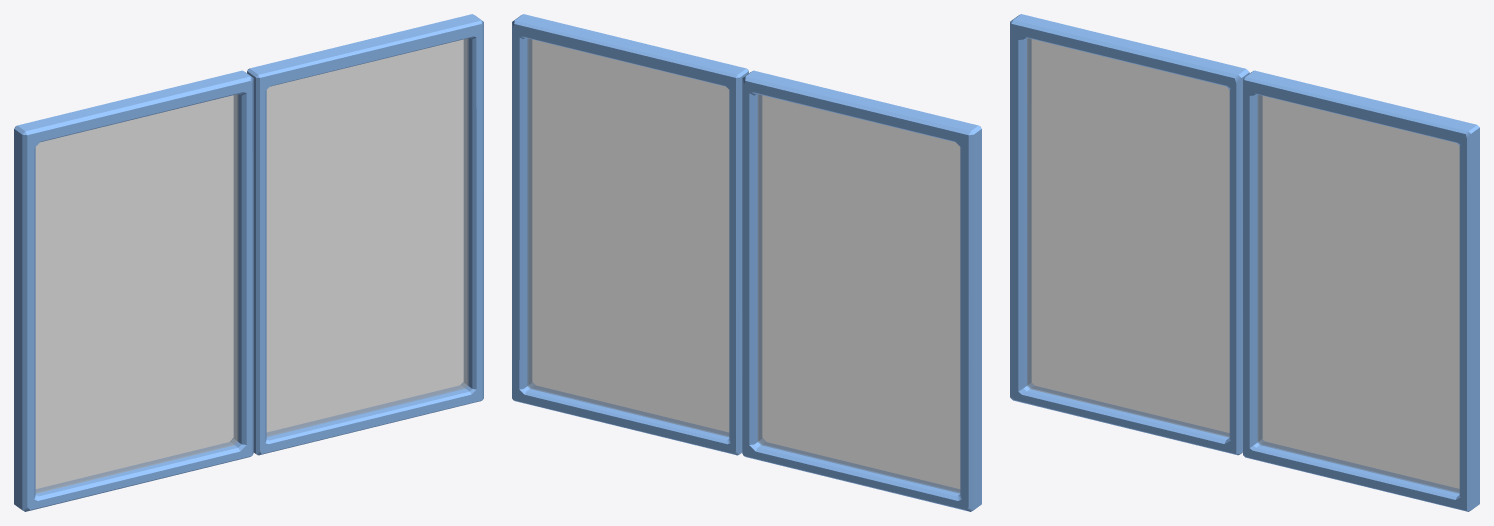
The model's file is kapı.fbx.
The picture shows the model from 3 angles, left to right: view 1: azimuth 30°, elevation 25°; view 2: azimuth 150°, elevation 25°; view 3: azimuth 330°, elevation 25°; orthographic projection.
Parts seen in each view (by area): view 1: pCube77; view 2: pCube77; view 3: pCube77.
Boxes of the visible parts, x1,y1,x2,y2 form: pCube77: (14,14,483,511); pCube77: (512,14,981,511); pCube77: (1010,14,1479,511).
Bounding box in the file's own units: 310 × 244 × 13.75.
